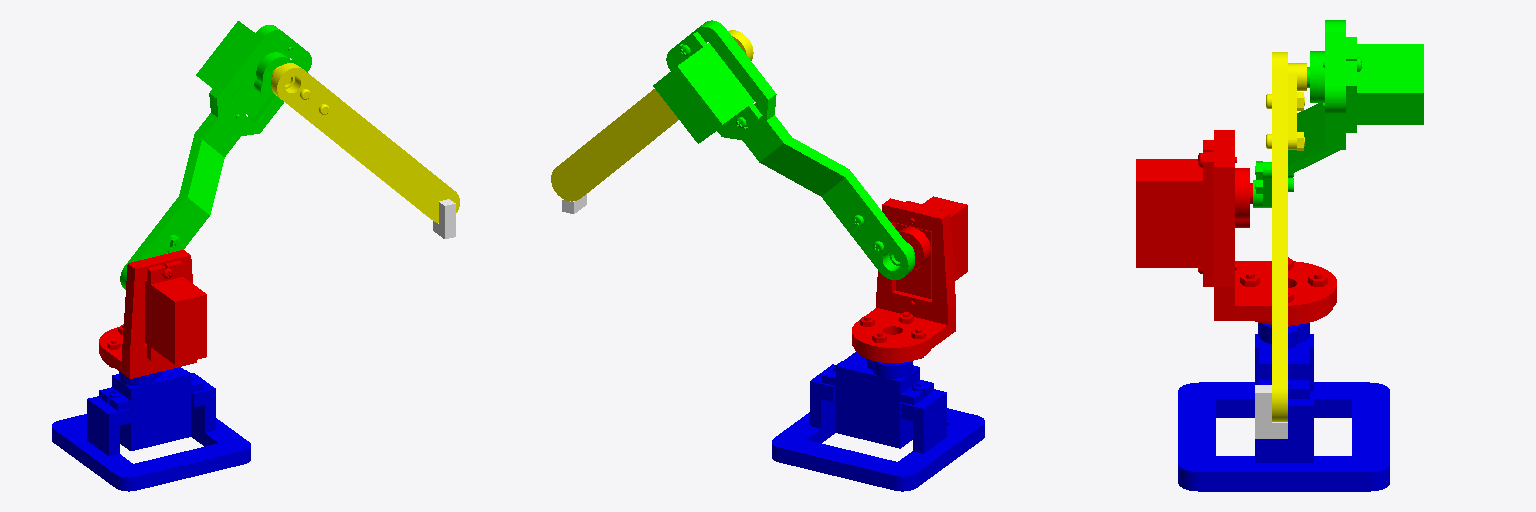
URDF robot description (s5_3axis):
<?xml version="1.0" ?>
<robot name="s5_3axis">
    <material name="blue">
        <color rgba="0.0 0.0 1.0 2.0" />
    </material>
    <material name="red">
        <color rgba="1.0 0.0 0.0 2.0" />
    </material>
    <material name="green">
        <color rgba="0.0 1.0 0.0 2.0" />
    </material>
    <material name="yellow">
        <color rgba="1.0 1.0 0.0 2.0" />
    </material>
    <material name="white">
        <color rgba="1.0 1.0 1.0 2.0" />
    </material>
    <link name="base_link" />
    <joint name="base_joint" type="fixed">
        <parent link="base_link" />
        <child link="link1" />
    </joint>
    <link name="link1">
        <visual>
            <geometry>
                <mesh filename="package://s5_3axis/stl/Link1.stl" />
            </geometry>
            <origin xyz="0 0 0" rpy="0 0 0" />
            <material name="blue" />
        </visual>
        <collision>
            <geometry>
                <box size="0.050 0.050 0.031" />
            </geometry>
            <origin xyz="0 0 0.0155" rpy="0 0 0" />
            <material name="blue" />
        </collision>
        <inertial>
            <origin xyz="0 0 0.0155" rpy="0 0 0" />
            <mass value="0.024534" />
            <inertia ixx="0.000007076" ixy="0" ixz="0" iyx="0" iyy="0.000007076" iyz="0" izx="0" izy="0" izz="0.000010223" />
        </inertial>
    </link>
    <joint name="joint1" type="revolute">
        <parent link="link1" />
        <child link="link2" />
        <origin xyz="-0.00515 0 0.034" rpy="0 0 0" />
        <axis xyz="0 0 1" />
        <limit lower="-1.57" upper="1.57" effort="30" velocity="6.284" />
    </joint>
    <link name="link2">
        <visual>
            <geometry>
                <mesh filename="package://s5_3axis/stl/Link2.stl" />
            </geometry>
            <origin xyz="0 0 0.002" rpy="0 0 0" />
            <material name="red" />
        </visual>
        <collision>
            <geometry>
                <box size="0.025 0.0232 0.039" />
            </geometry>
            <origin xyz="0 -0.0232 0.0215" rpy="0 0 0" />
            <material name="red" />
        </collision>
        <inertial>
            <origin xyz="0 -0.0232 0.0215" rpy="0 0 0" />
            <mass value="0.022" />
            <inertia ixx="0.000003775" ixy="0" ixz="0" iyx="0" iyy="0.000003934" iyz="0" izx="0" izy="0" izz="0.000002133" />
        </inertial>
    </link>
    <joint name="joint2" type="revolute">
        <parent link="link2" />
        <child link="link3" />
        <origin xyz="0 -0.0051 0.0293" rpy="0 0.785398163397 0" />
        <axis xyz="0 1 0" />
        <limit lower="-1.57" upper="1.57" effort="30" velocity="6.284" />
    </joint>
    <link name="link3">
        <visual>
            <geometry>
                <mesh filename="package://s5_3axis/stl/Link3.stl" />
            </geometry>
            <origin xyz="0 0.0021 0" rpy="0 0 0" />
            <material name="green" />
        </visual>
        <collision>
            <geometry>
                <box size="0.012 0.005 0.0977" />
            </geometry>
            <origin xyz="0 0.0172 0.04285" rpy="0 0 0" />
            <material name="green" />
        </collision>
        <inertial>
            <origin xyz="0 0.0172 0.04285" rpy="0 0 0" />
            <mass value="0.021116" />
            <inertia ixx="0.000016841" ixy="0" ixz="0" iyx="0" iyy="0.000017050" iyz="0" izx="0" izy="0" izz="0.000000297" />
        </inertial>
    </link>
    <joint name="joint3" type="revolute">
        <parent link="link3" />
        <child link="link4" />
        <origin xyz="0 0.0082 0.080" rpy="0 -1.570796326795 3.1415926535897931" />
        <axis xyz="0 1 0" />
        <limit lower="-1.57" upper="1.57" effort="30" velocity="6.284" />
    </joint>
    <link name="link4">
        <visual>
            <geometry>
                <mesh filename="package://s5_3axis/stl/Link4.stl" />
            </geometry>
            <origin xyz="0 0.0021 0" rpy="0 0 0" />
            <material name="yellow" />
        </visual>
        <collision>
            <geometry>
                <box size="0.012 0.004 0.092" />
            </geometry>
            <origin xyz="0 0.0041 0.040" rpy="0 0 0" />
            <material name="yellow" />
        </collision>
        <inertial>
            <origin xyz="0 0.0041 0.040" rpy="0 0 0" />
            <mass value="0.005476" />
            <inertia ixx="0.000003870" ixy="0" ixz="0" iyx="0" iyy="0.000003928" iyz="0" izx="0" izy="0" izz="0.000000073" />
        </inertial>
    </link>
    <joint name="control_point_joint1" type="revolute">
        <parent link="link4" />
        <child link="control_point1" />
        <origin xyz="0 0.0061 0.080" rpy="0 0.785398163397 0" />
        <axis xyz="0 1 0" />
        <limit lower="-1.57" upper="1.57" effort="30" velocity="6.284" />
    </joint>
    <link name="control_point1">
        <visual>
            <geometry>
                <box size="0.008 0.004 0.004" />
            </geometry>
            <origin xyz="-0.002 0.002 0" rpy="0 0 0" />
            <material name="white" />
        </visual>
        <collision>
            <geometry>
                <box size="0.008 0.004 0.004" />
            </geometry>
            <origin xyz="-0.002 0.002 0" rpy="0 0 0" />
            <material name="white" />
        </collision>
        <inertial>
            <origin xyz="-0.002 0.002 0" rpy="0 0 0" />
            <mass value="0.0001" />
            <inertia ixx="0.000000003" ixy="0" ixz="0" iyx="0" iyy="0.000000007" iyz="0" izx="0" izy="0" izz="0.000000007" />
        </inertial>
    </link>
    <joint name="control_point_joint2" type="revolute">
        <parent link="control_point1" />
        <child link="control_point2" />
        <origin xyz="-0.006 0 0" rpy="0 0 0" />
        <axis xyz="1 0 0" />
        <limit lower="-1.57" upper="1.57" effort="30" velocity="6.284" />
    </joint>
    <link name="control_point2">
        <visual>
            <geometry>
                <box size="0.004 0.008 0.004" />
            </geometry>
            <origin xyz="-0.002 0 0" rpy="0 0 0" />
            <material name="white" />
        </visual>
        <collision>
            <geometry>
                <box size="0.004 0.008 0.004" />
            </geometry>
            <origin xyz="-0.002 0 0" rpy="0 0 0" />
            <material name="white" />
        </collision>
        <inertial>
            <origin xyz="-0.002 0 0" rpy="0 0 0" />
            <mass value="0.0001" />
            <inertia ixx="0.000000007" ixy="0" ixz="0" iyx="0" iyy="0.000000003" iyz="0" izx="0" izy="0" izz="0.000000007" />
        </inertial>
    </link>
    <transmission name="trans_joint1">
        <type>transmission_interface/SimpleTransmission</type>
        <joint name="joint1">
            <hardwareInterface>hardware_interface/PositionJointInterface</hardwareInterface>
        </joint>
        <actuator name="joint1_motor">
            <hardwareInterface>hardware_interface/PositionJointInterface</hardwareInterface>
            <mechanicalReduction>1</mechanicalReduction>
        </actuator>
    </transmission>
    <transmission name="trans_joint2">
        <type>transmission_interface/SimpleTransmission</type>
        <joint name="joint2">
            <hardwareInterface>hardware_interface/PositionJointInterface</hardwareInterface>
        </joint>
        <actuator name="joint2_motor">
            <hardwareInterface>hardware_interface/PositionJointInterface</hardwareInterface>
            <mechanicalReduction>1</mechanicalReduction>
        </actuator>
    </transmission>
    <transmission name="trans_joint3">
        <type>transmission_interface/SimpleTransmission</type>
        <joint name="joint3">
            <hardwareInterface>hardware_interface/PositionJointInterface</hardwareInterface>
        </joint>
        <actuator name="joint3_motor">
            <hardwareInterface>hardware_interface/PositionJointInterface</hardwareInterface>
            <mechanicalReduction>1</mechanicalReduction>
        </actuator>
    </transmission>
    <transmission name="trans_control_point_joint1">
        <type>transmission_interface/SimpleTransmission</type>
        <joint name="control_point_joint1">
            <hardwareInterface>hardware_interface/PositionJointInterface</hardwareInterface>
        </joint>
        <actuator name="control_point_joint1_motor">
            <hardwareInterface>hardware_interface/PositionJointInterface</hardwareInterface>
            <mechanicalReduction>1</mechanicalReduction>
        </actuator>
    </transmission>
    <transmission name="trans_control_point_joint2">
        <type>transmission_interface/SimpleTransmission</type>
        <joint name="control_point_joint2">
            <hardwareInterface>hardware_interface/PositionJointInterface</hardwareInterface>
        </joint>
        <actuator name="control_point_joint2_motor">
            <hardwareInterface>hardware_interface/PositionJointInterface</hardwareInterface>
            <mechanicalReduction>1</mechanicalReduction>
        </actuator>
    </transmission>
    <gazebo>
        <plugin name="gazebo_ros_control" filename="libgazebo_ros_control.so">
            <robotNamespace>/</robotNamespace>
            <robotSimType>gazebo_ros_control/DefaultRobotHWSim</robotSimType>
            <legacyModeNS>true</legacyModeNS>
        </plugin>
        <plugin name="joint_state_publisher" filename="libgazebo_ros_joint_state_publisher.so">
            <robotNamespace>/</robotNamespace>
            <jointName>joint1, joint2, joint3, control_point_joint1, control_point_joint2</jointName>
        </plugin>
    </gazebo>
</robot>

--- Render facts (derived) ---
Views: 3 orthographic renders of the robot side by side, from view 1: azimuth 30°, elevation 25°; view 2: azimuth 150°, elevation 25°; view 3: azimuth 270°, elevation 25°.
Model s5_3axis with 7 links and 6 joints (5 revolute, 1 fixed), rooted at base_link, posed every joint at zero.
Links seen in each view (by area): view 1: link1, link3, link2, link4; view 2: link3, link1, link2, link4; view 3: link1, link2, link3, link4, control_point1, control_point2.
Boxes of the visible links, left/top/right/bottom form: link1: left=52, top=367, right=250, bottom=491; link3: left=120, top=21, right=311, bottom=289; link2: left=99, top=250, right=206, bottom=378; link4: left=271, top=63, right=459, bottom=222; link3: left=653, top=20, right=914, bottom=279; link1: left=772, top=352, right=984, bottom=491; link2: left=852, top=196, right=967, bottom=362; link4: left=551, top=30, right=753, bottom=201; link1: left=1178, top=323, right=1389, bottom=491; link2: left=1136, top=130, right=1336, bottom=326; link3: left=1253, top=20, right=1423, bottom=207; link4: left=1266, top=52, right=1306, bottom=421; control_point1: left=1255, top=385, right=1271, bottom=422; control_point2: left=1255, top=422, right=1287, bottom=438.
Size in the robot's own frame: 0.139 by 0.0676 by 0.1342 metres.
Meshes: 4 distinct files referenced, 4 mesh visuals loaded (4 binary STL).